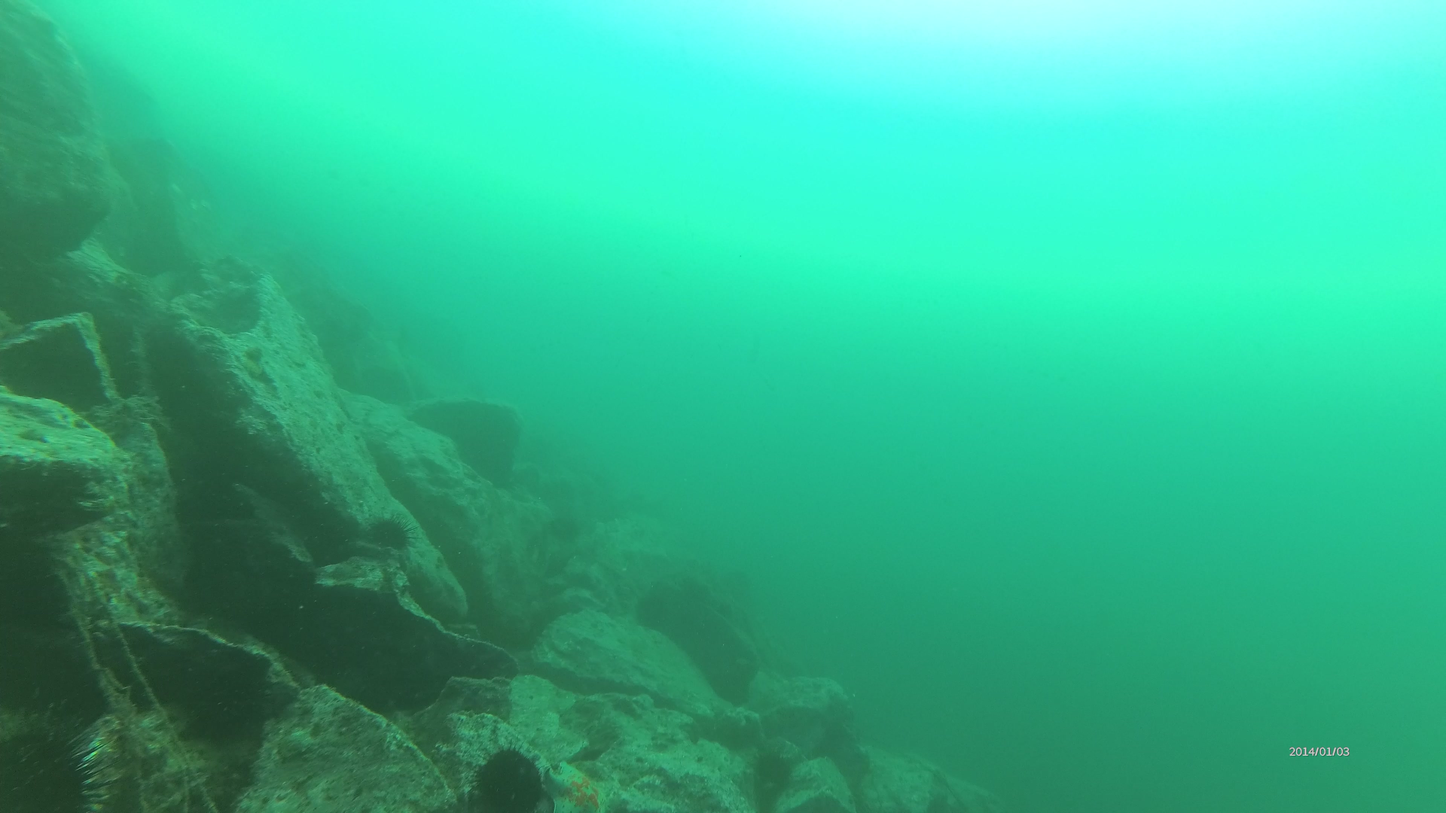holothurian: (542, 764, 627, 813)
starfish: (473, 746, 546, 813), (365, 512, 413, 558)
